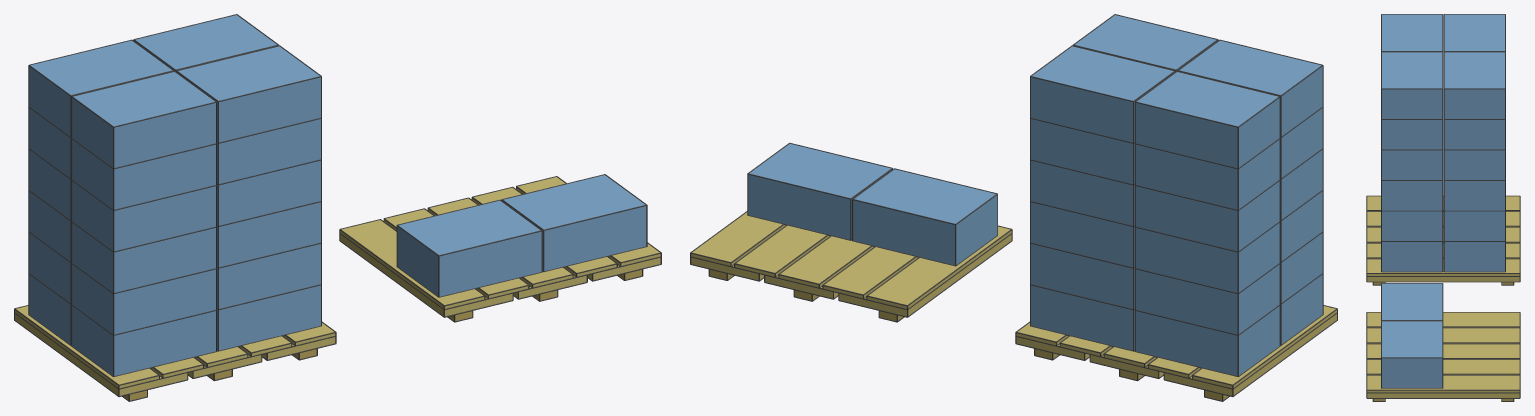
File: pallet_TG1LF02420.glb
3 views of the same model, side by side, from view 1: azimuth 30°, elevation 25°; view 2: azimuth 150°, elevation 25°; view 3: azimuth 270°, elevation 25° (orthographic). The views are drawn at different scales.
Visible parts, largest first — view 1: world; view 2: world; view 3: world.
Part boxes in pixels (x1,y1,x2,y2): world: (14,14,661,401); world: (690,14,1337,401); world: (1366,14,1520,401).
Size of the model in its own units: 301 by 145 by 101.
